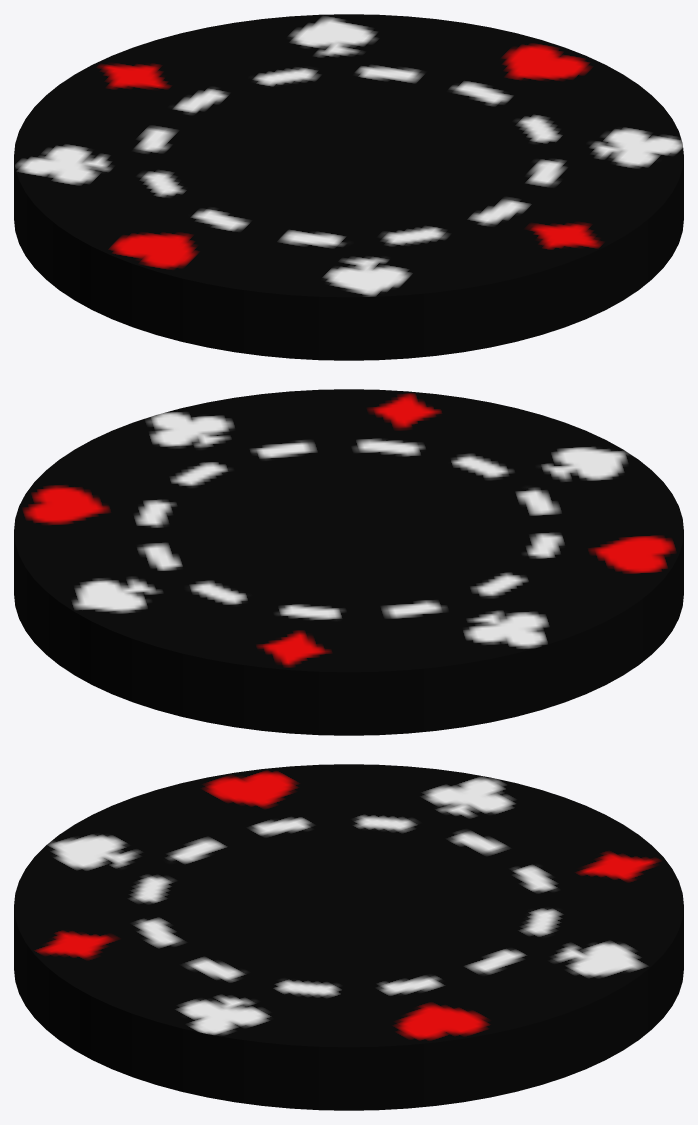
File: poker_chip.glb
3 renders of one model, top to bottom at view 1: azimuth 30°, elevation 25°; view 2: azimuth 150°, elevation 25°; view 3: azimuth 270°, elevation 25°, orthographic.
Parts seen in each view (by area): view 1: Cylinder.001_Cylinder.000; view 2: Cylinder.001_Cylinder.000; view 3: Cylinder.001_Cylinder.000.
Boxes of the visible parts, x1,y1,x2,y2 form: Cylinder.001_Cylinder.000: [14, 14, 683, 360]; Cylinder.001_Cylinder.000: [14, 389, 683, 735]; Cylinder.001_Cylinder.000: [14, 764, 683, 1110].
Bounding box in the file's own units: 0.0506 × 0.00529 × 0.0506.
Materials: 1 (1 with a texture image).
